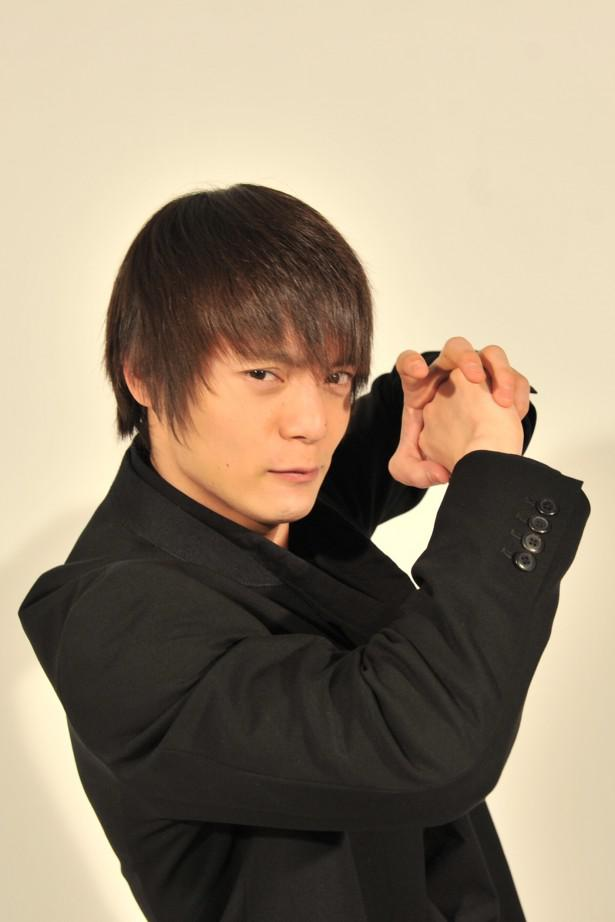face: (121, 303, 374, 521)
hand: (387, 335, 538, 487)
